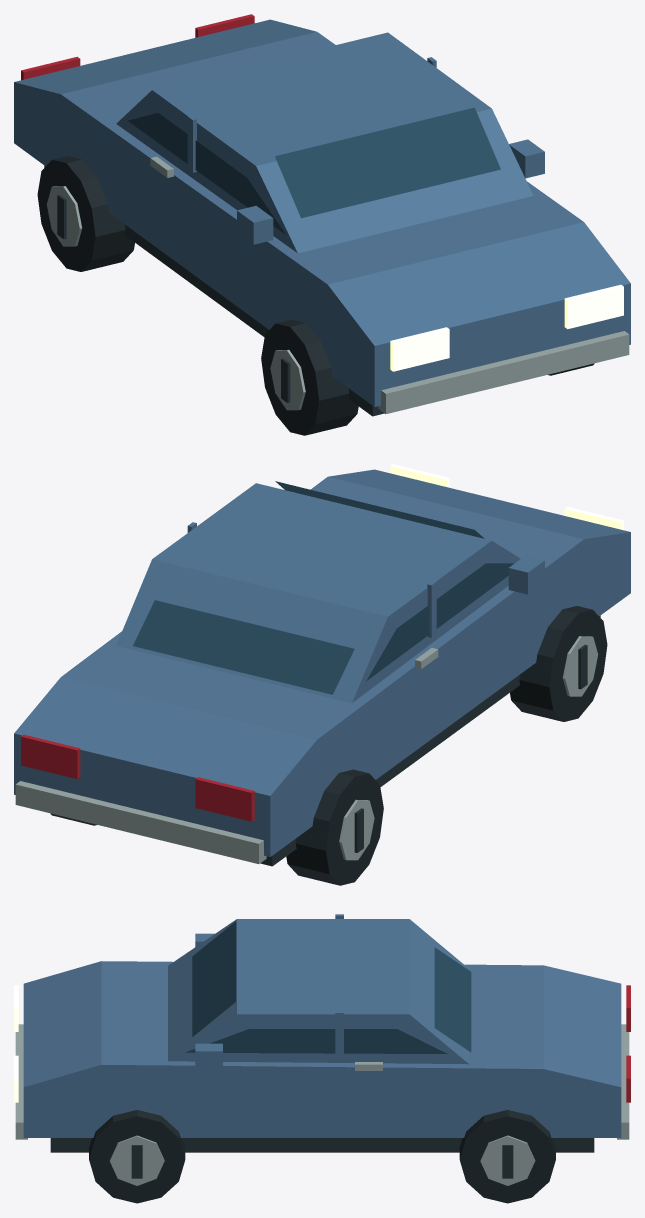
Rendered from car-sedan.glb.
The picture shows the model from 3 angles, top to bottom: view 1: azimuth 30°, elevation 25°; view 2: azimuth 150°, elevation 25°; view 3: azimuth 270°, elevation 25°; orthographic projection. The views are drawn at different scales.
Visible parts, largest first — view 1: CivilianRoot_blue, CivilianRoot_glass, CivilianRoot_steel, WheelRearLeft_rubber, WheelFrontLeft_rubber, CivilianRoot_lamp, CivilianRoot_dark, WheelRearLeft_steel, CivilianRoot_red, WheelFrontLeft_steel; view 2: CivilianRoot_blue, CivilianRoot_glass, CivilianRoot_steel, WheelFrontLeft_rubber, WheelRearLeft_rubber, CivilianRoot_red, CivilianRoot_dark, WheelFrontLeft_steel, CivilianRoot_lamp, WheelRearLeft_steel; view 3: CivilianRoot_blue, CivilianRoot_glass, CivilianRoot_dark, WheelFrontRight_rubber, WheelRearRight_rubber, CivilianRoot_steel, WheelFrontRight_steel, WheelRearRight_steel, CivilianRoot_lamp, CivilianRoot_red.
Boxes of the visible parts, box(x1,y1,x2,y2) form: CivilianRoot_blue: box(14, 19, 630, 406); CivilianRoot_glass: box(128, 107, 500, 234); CivilianRoot_steel: box(150, 156, 629, 413); WheelRearLeft_rubber: box(37, 156, 134, 271); WheelFrontLeft_rubber: box(261, 319, 358, 435); CivilianRoot_lamp: box(390, 284, 623, 371); CivilianRoot_dark: box(44, 165, 384, 416); WheelRearLeft_steel: box(46, 186, 82, 246); CivilianRoot_red: box(21, 14, 254, 80); WheelFrontLeft_steel: box(270, 349, 305, 410); CivilianRoot_blue: box(14, 469, 630, 856); CivilianRoot_glass: box(133, 481, 514, 694); CivilianRoot_steel: box(15, 648, 438, 863); WheelFrontLeft_rubber: box(510, 606, 607, 721); WheelRearLeft_rubber: box(286, 769, 383, 885); CivilianRoot_red: box(21, 734, 254, 821); CivilianRoot_dark: box(260, 615, 600, 866); WheelFrontLeft_steel: box(562, 636, 598, 696); CivilianRoot_lamp: box(390, 464, 623, 530); WheelRearLeft_steel: box(339, 799, 374, 860); CivilianRoot_blue: box(23, 914, 621, 1137); CivilianRoot_glass: box(185, 921, 471, 1053); CivilianRoot_dark: box(50, 1138, 594, 1152); WheelFrontRight_rubber: box(89, 1110, 185, 1203); WheelRearRight_rubber: box(459, 1110, 555, 1203); CivilianRoot_steel: box(15, 1024, 629, 1139); WheelFrontRight_steel: box(109, 1135, 164, 1185); WheelRearRight_steel: box(480, 1135, 535, 1185); CivilianRoot_lamp: box(14, 985, 18, 1102); CivilianRoot_red: box(626, 985, 630, 1102).
Bounding box in the file's own units: 1.85 × 1.3 × 3.97.
